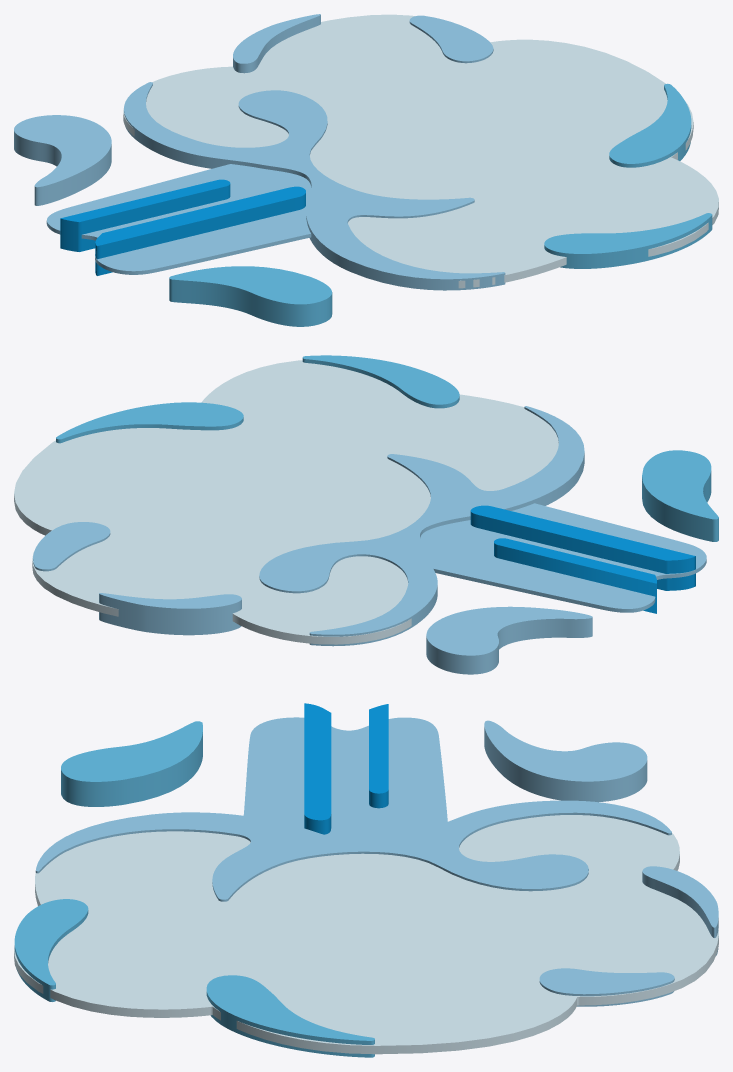
File: emoji_u1f4a8.glb
The picture shows the model from 3 angles, top to bottom: view 1: azimuth 30°, elevation 25°; view 2: azimuth 150°, elevation 25°; view 3: azimuth 270°, elevation 25°; orthographic projection. The views are drawn at different scales.
Parts seen in each view (by area): view 1: emoji_u1f4a8; view 2: emoji_u1f4a8; view 3: emoji_u1f4a8.
Boxes of the visible parts, box(x1,y1,x2,y2) form: emoji_u1f4a8: box(14, 14, 718, 326); emoji_u1f4a8: box(14, 355, 718, 674); emoji_u1f4a8: box(14, 703, 718, 1057).
Size of the model in its own units: 0.0339 by 0.0016 by 0.0305.
